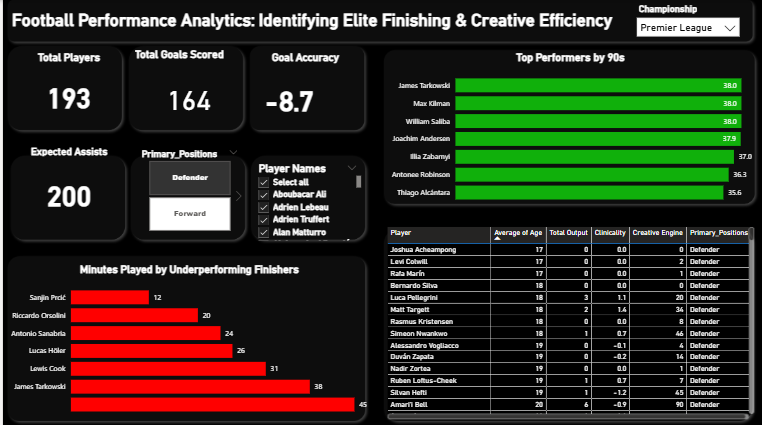

This screenshot's page, from the dashboard's own definition file:
{"tool":"powerbi","page":{"name":"Page 1","canvas":[1280,720],"ordinal":0},"visuals":[{"type":"cardVisual","title":"Total Players","fields":{"Data":["Count(Football_Clean_Final csv.Player)"]},"box":[15.3,86.5,191.6,139],"z":0},{"type":"cardVisual","title":"Goal Accuracy","fields":{"Data":["Football_Clean_Final csv.Clinicality"]},"box":[415.4,86.5,186.5,139],"z":1000},{"type":"slicer","fields":{"Values":["Football_Clean_Final csv.League"]},"box":[1054.5,0,191.6,74.6],"z":2000},{"type":"slicer","fields":{"Values":["Football_Clean_Final csv.Primary_Positions"]},"box":[220.1,243.6,186.5,151.2],"z":3000},{"type":"slicer","fields":{"Values":["Football_Clean_Final csv.Player"]},"box":[415.8,266.9,189.9,142],"z":4000},{"type":"tableEx","fields":{"Values":["Football_Clean_Final csv.Player","Avg(Football_Clean_Final csv.Age)","Football_Clean_Final csv.Total Output","Football_Clean_Final csv.Clinicality","Football_Clean_Final csv.Creative Engine","Football_Clean_Final csv.Primary_Positions"]},"box":[640,376.3,626.6,332.6],"z":5000},{"type":"clusteredBarChart","title":"Top Performers by 90s","fields":{"Category":["Football_Clean_Final csv.Player"],"Y":["Sum(Football_Clean_Final csv.90s)"]},"box":[640,85.7,626.6,267.1],"z":6000},{"type":"clusteredBarChart","title":"Minutes Played by Underperforming Finishers","fields":{"Category":["Football_Clean_Final csv.Player"],"Y":["Sum(Football_Clean_Final csv.90s)"]},"box":[0,441.8,626.6,267.1],"z":7000},{"type":"cardVisual","title":"Total Goals Scored","fields":{"Data":["Sum(Football_Clean_Final csv.Gls)"]},"box":[217.3,80.4,191.7,150.6],"z":8000},{"type":"cardVisual","title":"Expected Assists","fields":{"Data":["Sum(Football_Clean_Final csv.xAG)"]},"box":[15,244,192,151],"z":9000},{"type":"textbox","box":[15.4,17.1,1021.6,58.2],"z":10000}]}

Visuals, with their boxes in screenshot pixels (x1, y1, x2, y2), scaled from the page's 1280x720 canvas onto the 762x425 screenshot:
"Total Players" cardVisual: 9:51:123:133
"Goal Accuracy" cardVisual: 247:51:358:133
slicer - Football_Clean_Final csv.League: 628:0:742:44
slicer - Football_Clean_Final csv.Primary_Positions: 131:144:242:233
slicer - Football_Clean_Final csv.Player: 248:158:361:241
tableEx - Football_Clean_Final csv.Player x Avg(Football_Clean_Final csv.Age): 381:222:754:418
"Top Performers by 90s" clusteredBarChart: 381:51:754:208
"Minutes Played by Underperforming Finishers" clusteredBarChart: 0:261:373:418
"Total Goals Scored" cardVisual: 129:47:243:136
"Expected Assists" cardVisual: 9:144:123:233
textbox: 9:10:617:44
